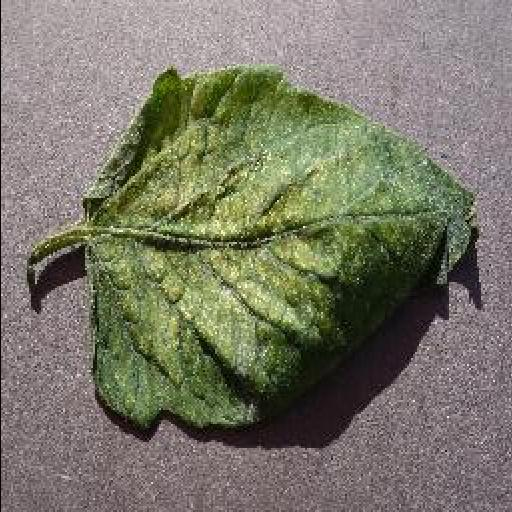disease_tomato: (78, 74, 480, 434)
